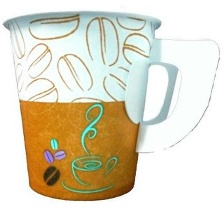paper_cup: (0, 5, 224, 206)
